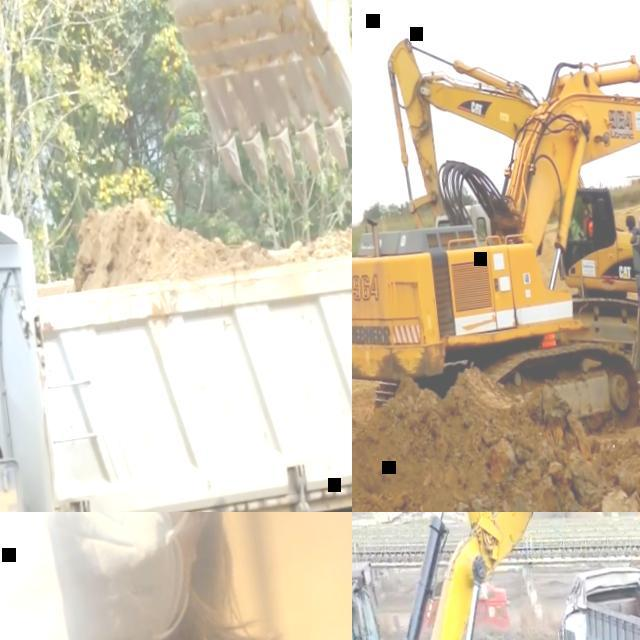vest: (584, 220, 594, 234)
